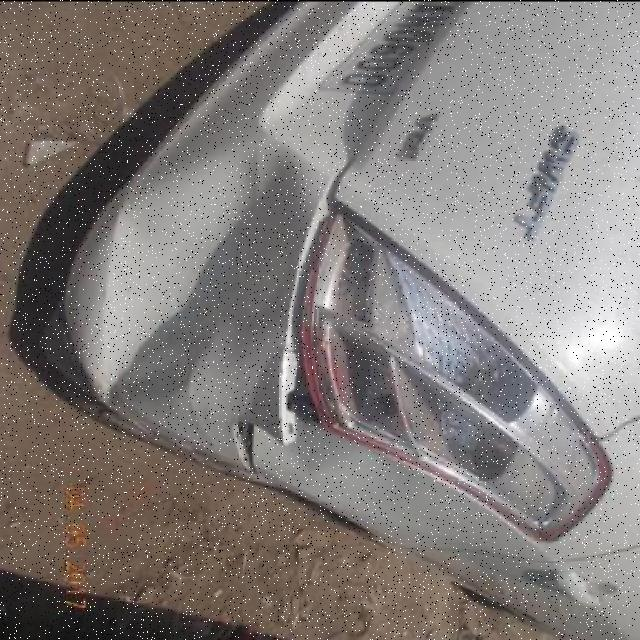damage: (312, 226, 604, 531), (97, 147, 314, 443), (224, 227, 368, 477)
